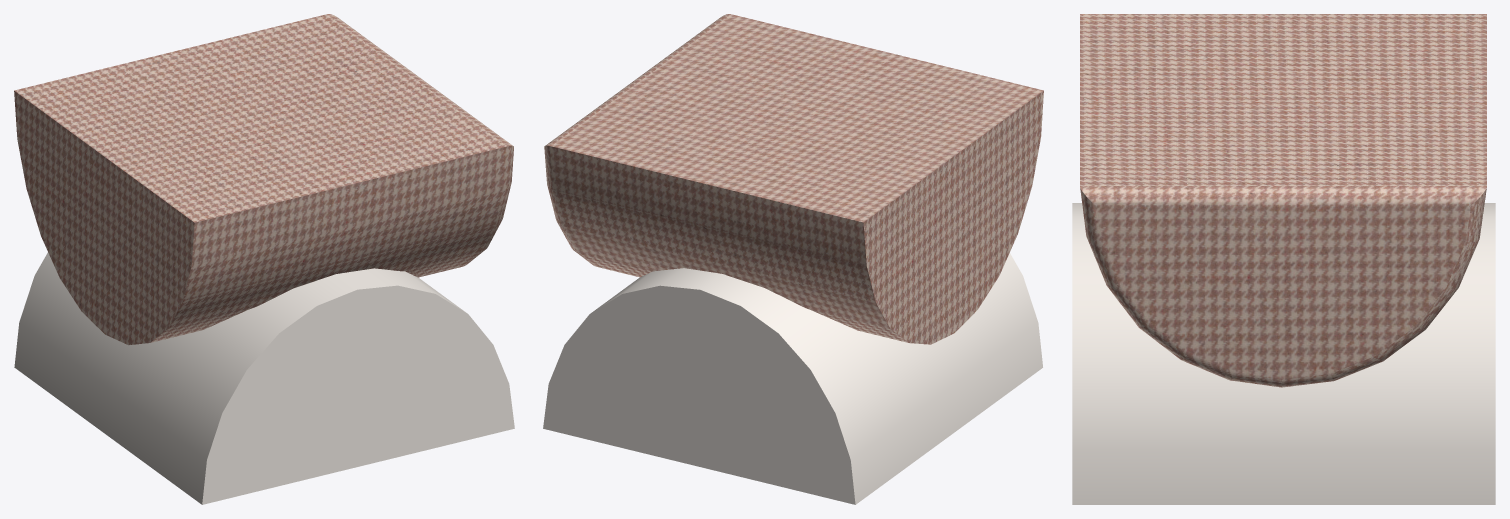
The model's file is 3dmodel.glb.
The picture shows the model from 3 angles, left to right: view 1: azimuth 30°, elevation 25°; view 2: azimuth 150°, elevation 25°; view 3: azimuth 270°, elevation 25°; orthographic projection. The views are drawn at different scales.
Parts seen in each view (by area): view 1: Geom3D_ (×2); view 2: Geom3D_ (×2); view 3: Geom3D_ (×2).
Part boxes in pixels (bbox=[...]): Geom3D_ (×2): bbox=[14, 14, 514, 504]; Geom3D_ (×2): bbox=[543, 14, 1043, 504]; Geom3D_ (×2): bbox=[1072, 14, 1495, 504].
Bounding box in the file's own units: 0.52 × 0.4291 × 0.52.
2 materials, 1 textured.
